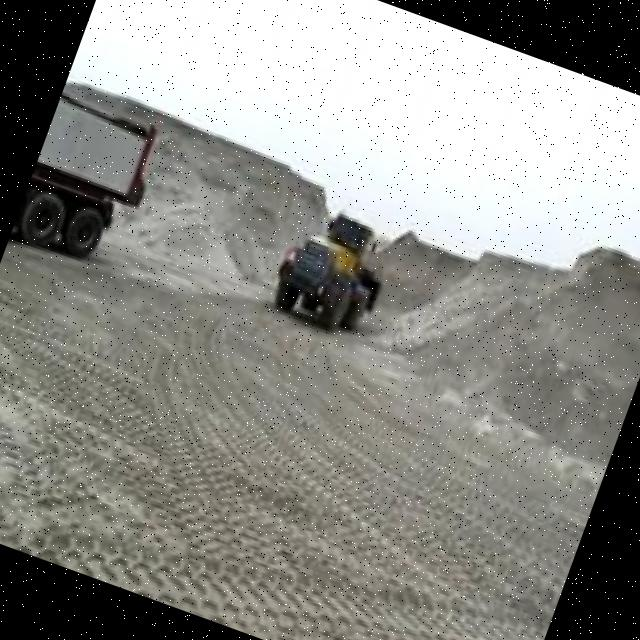Dump Truck: (10, 87, 168, 274)
Loader: (260, 191, 402, 341)
